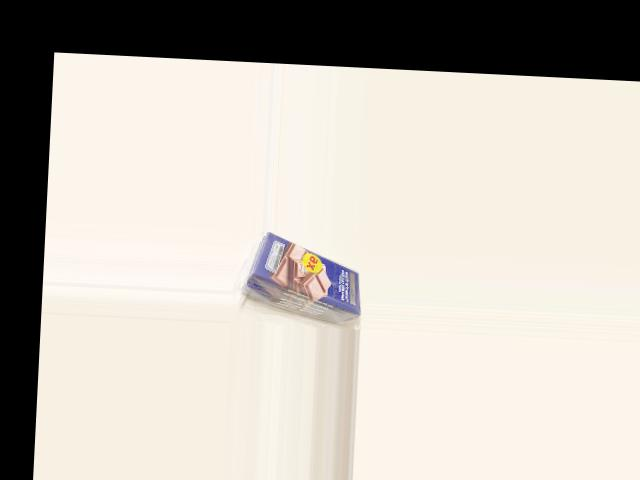chocolate: (248, 229, 364, 322)
